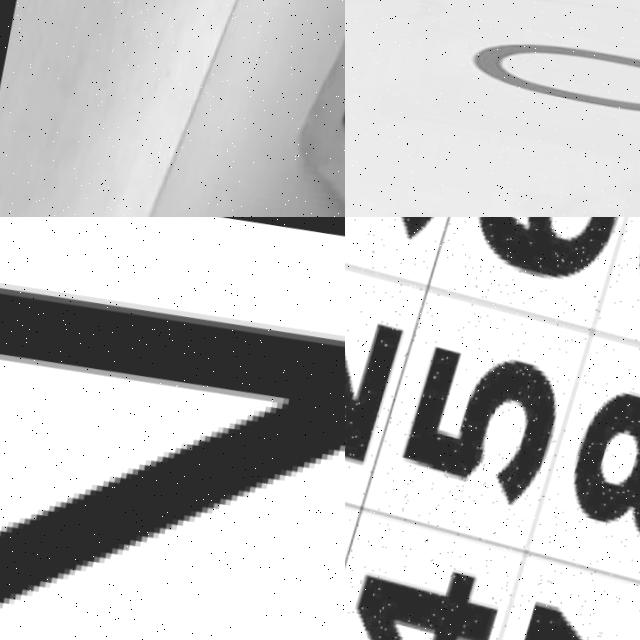0: (458, 25, 640, 132)
2: (345, 283, 410, 475)
3: (345, 217, 470, 254)
4: (345, 539, 511, 640)
5: (392, 330, 576, 518)
6: (448, 217, 638, 303)
7: (487, 593, 640, 640)
8: (553, 370, 640, 564)
D: (279, 0, 345, 217)
N: (0, 248, 345, 640)
